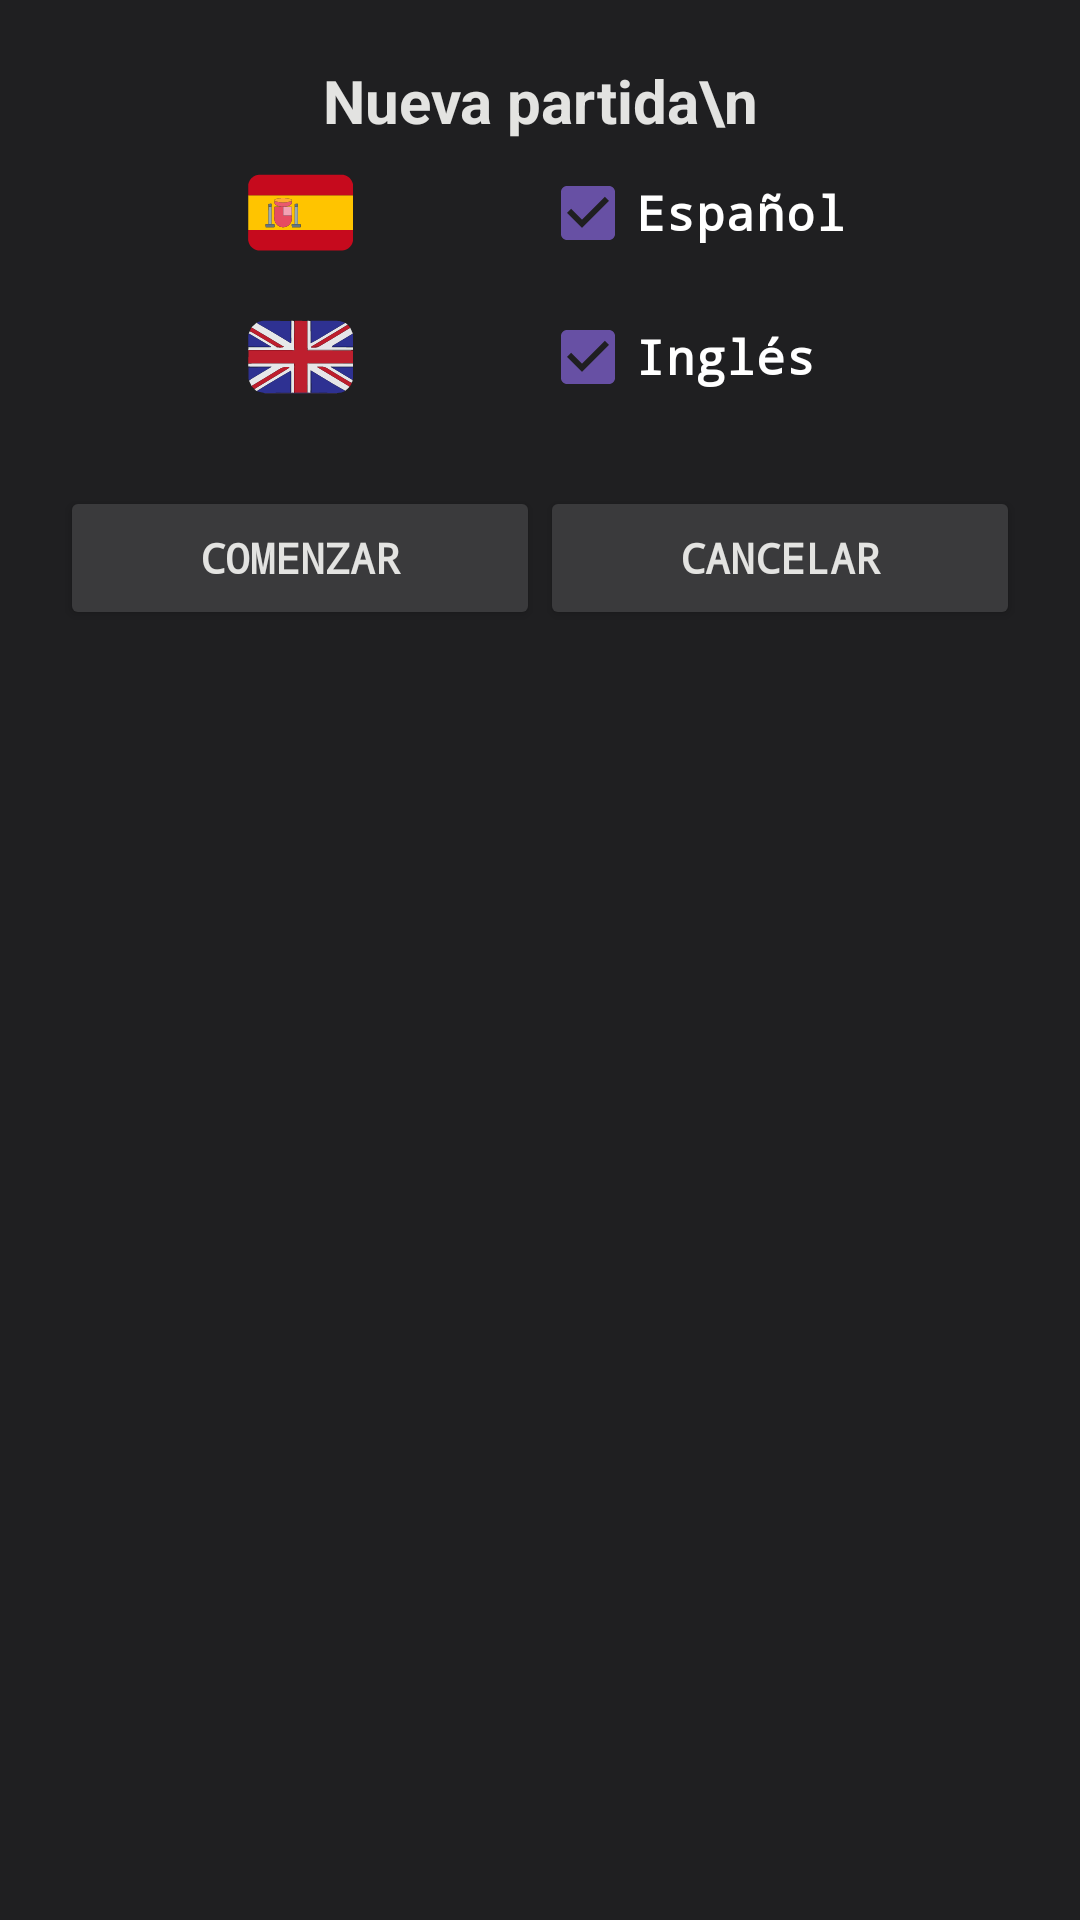

Screen size 1080 x 1920. Icon name, then its center in pixels as (x=x, y=y):
spa flag: (x=300, y=212)
uk flag: (x=300, y=357)
